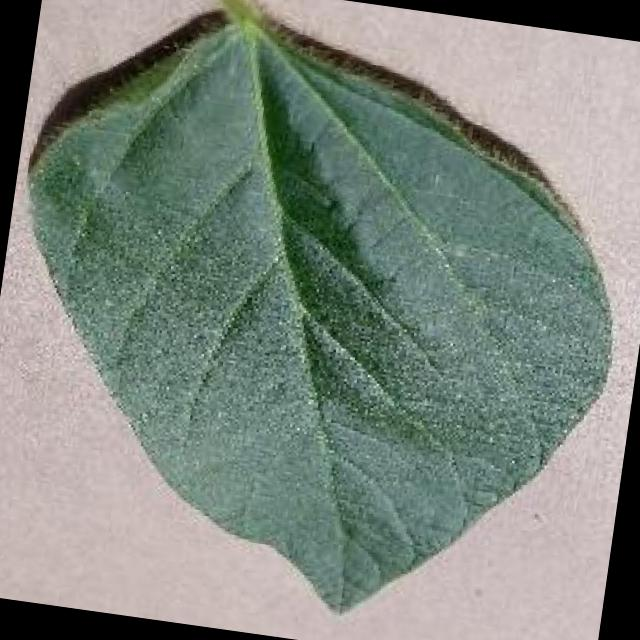healthy: (31, 0, 610, 612)
